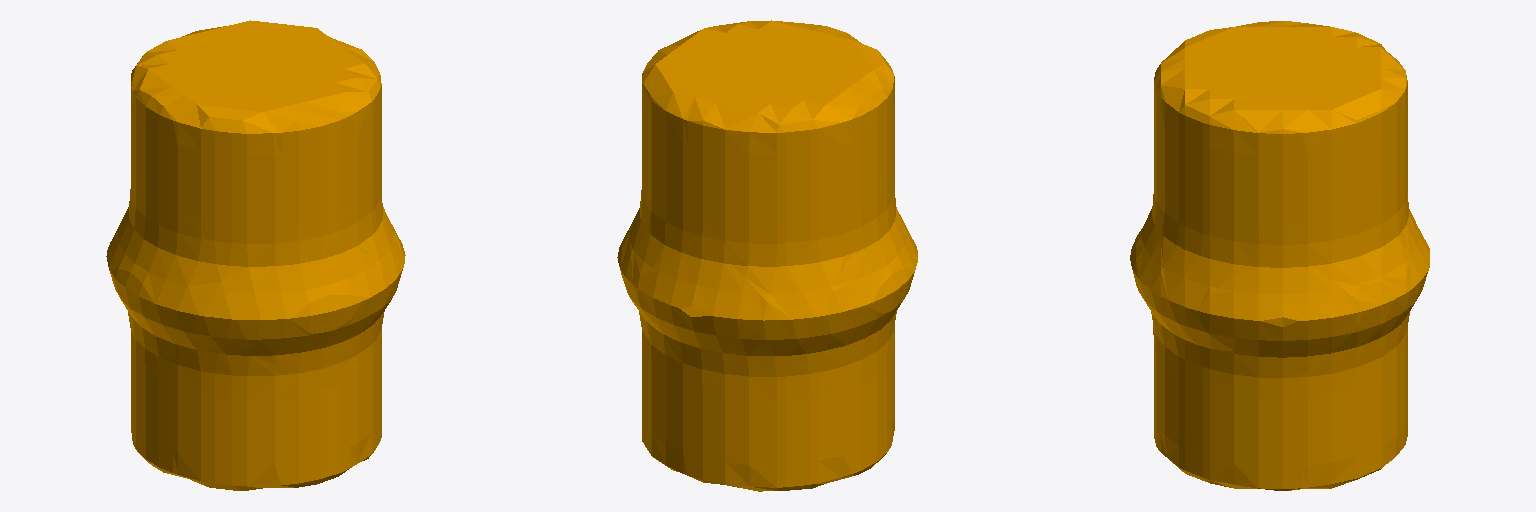
The robot description file, URDF, robot "cylinder_../../meshes/cylinders/cylinder_95.stl":
<?xml version="1.0" encoding="utf-8"?>  <robot name="cylinder_../../meshes/cylinders/cylinder_95.stl">   <link name="cylinder_../../meshes/cylinders/cylinder_95.stl">     <visual>       <geometry>         <mesh filename="../meshes/cylinders/cylinder_95.stl" scale="1 1 1"/>       </geometry>     </visual>     <collision>       <geometry>         <mesh filename="../meshes/cylinders/cylinder_95.stl" scale="1 1 1"/>       </geometry>     </collision>     <inertial>        <origin         xyz="0 0 0"         rpy="0 0 0" />       <mass value="0.18774396300240628"/>       <origin rpy="0 0 0" xyz="0 0 0"/>       <inertia ixx="0.00013961965822695336" ixy="-3.879711431791934e-09" ixz="-7.022558331430271e-09" iyy="0.00013961967308080667" iyz="-1.307037858918236e-08" izz="6.667278493079633e-05"/>     </inertial>   </link>  </robot>

--- Render facts (derived) ---
Views: 3 orthographic renders of the robot side by side, from view 1: azimuth 30°, elevation 25°; view 2: azimuth 150°, elevation 25°; view 3: azimuth 270°, elevation 25°.
Model cylinder_../../meshes/cylinders/cylinder_95.stl with 1 links and 0 joints (none), rooted at cylinder_../../meshes/cylinders/cylinder_95.stl, posed all joints at 0.
Links seen in each view (by area): view 1: cylinder_../../meshes/cylinders/cylinder_95.stl; view 2: cylinder_../../meshes/cylinders/cylinder_95.stl; view 3: cylinder_../../meshes/cylinders/cylinder_95.stl.
Link boxes in pixels (left/top/right/bottom): cylinder_../../meshes/cylinders/cylinder_95.stl: left=106, top=20, right=405, bottom=490; cylinder_../../meshes/cylinders/cylinder_95.stl: left=617, top=20, right=917, bottom=491; cylinder_../../meshes/cylinders/cylinder_95.stl: left=1130, top=21, right=1429, bottom=490.
Size in the robot's own frame: 0.0613 by 0.0613 by 0.0854 metres.
1 mesh visuals loaded from 1 distinct referenced files (1 binary STL).